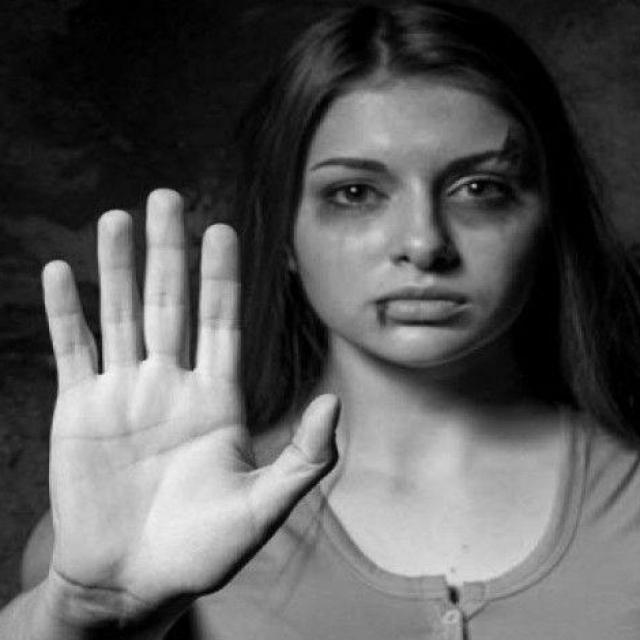stop: (36, 184, 346, 609)
